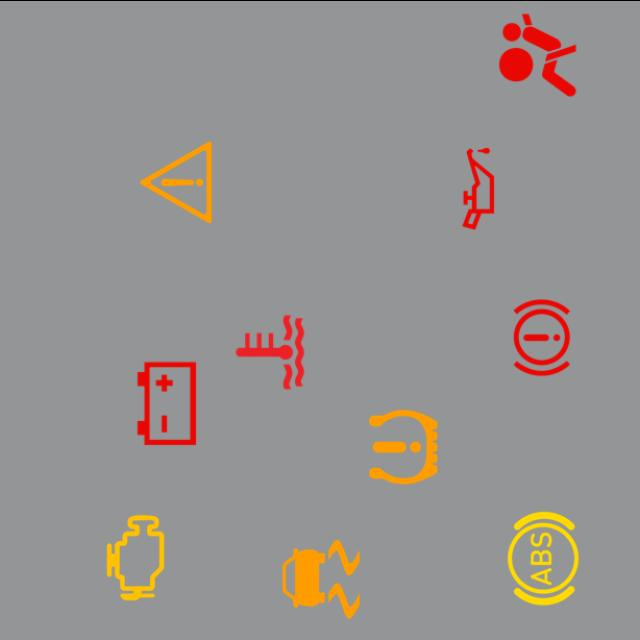Anti Lock Braking System: (492, 506, 594, 608)
Braking System Issue: (491, 286, 593, 388)
Charging System Issue: (116, 352, 218, 454)
Check Engine: (85, 506, 186, 608)
Electronic Stability Problem -ESP-: (270, 528, 372, 630)
Engine Overheating Warning Light: (219, 300, 321, 402)
Low Engine Oil Warning Light: (428, 136, 530, 238)
Low Tire Pressure Warning Light: (352, 395, 454, 497)
Master warning light: (125, 130, 227, 232)
SRS-Airbag: (487, 3, 589, 105)
